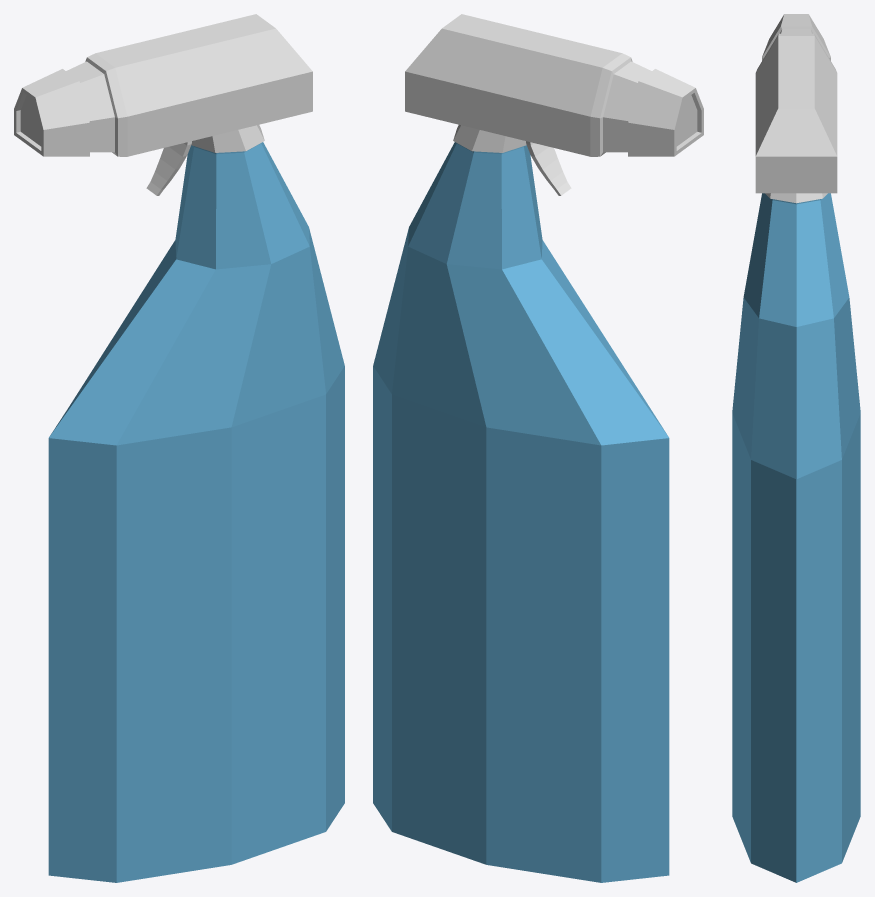
File: Spray.fbx
3 views of the same model, side by side, from view 1: azimuth 30°, elevation 25°; view 2: azimuth 150°, elevation 25°; view 3: azimuth 270°, elevation 25° (orthographic). The views are drawn at different scales.
Visible parts, largest first — view 1: Cube.065; view 2: Cube.065; view 3: Cube.065.
Boxes of the visible parts, x1,y1,x2,y2 form: Cube.065: [14, 14, 344, 882]; Cube.065: [373, 14, 703, 882]; Cube.065: [732, 14, 860, 882].
Size of the model in its own units: 10.79 by 26.13 by 4.12.
